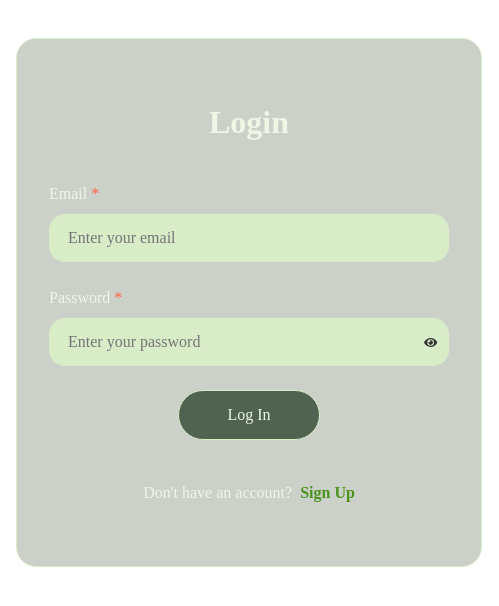
Test case: <LoginForm/> component › Render LoginForm component - Email error message - empty field
This screenshot has width=499, height=606.
Type "mypassword123!!AA" into the password field with placeholder "Enter your password" at (249, 342), box [49, 318, 449, 366]
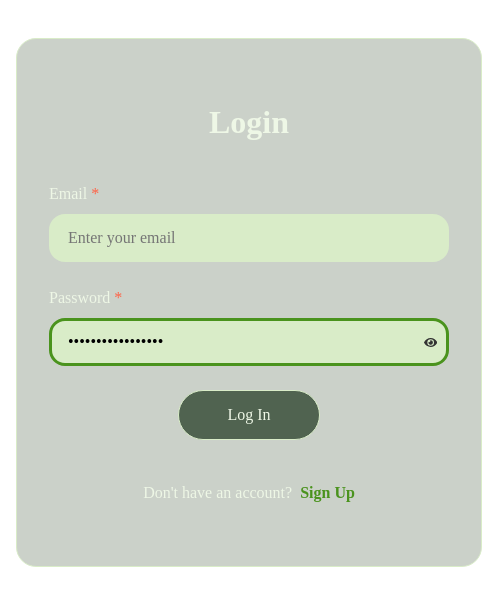
Click the button "Log In" at (249, 415), box [178, 390, 320, 440]
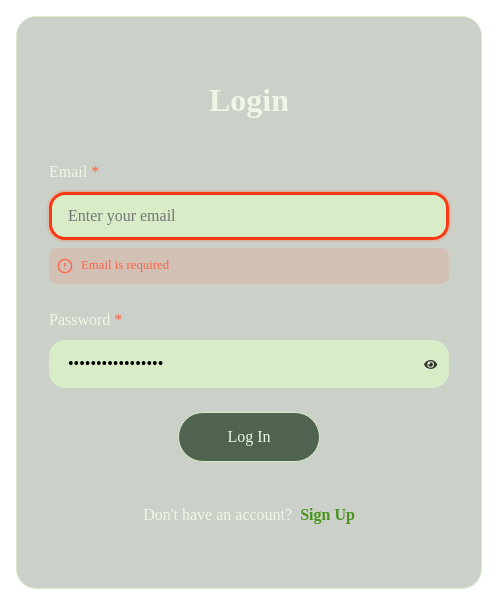
expect the text "Email is required" is shown: met, box [81, 258, 169, 273]
expect the text with test id "error-input-test-id" reads "Email is required": met, box [81, 258, 169, 272]
